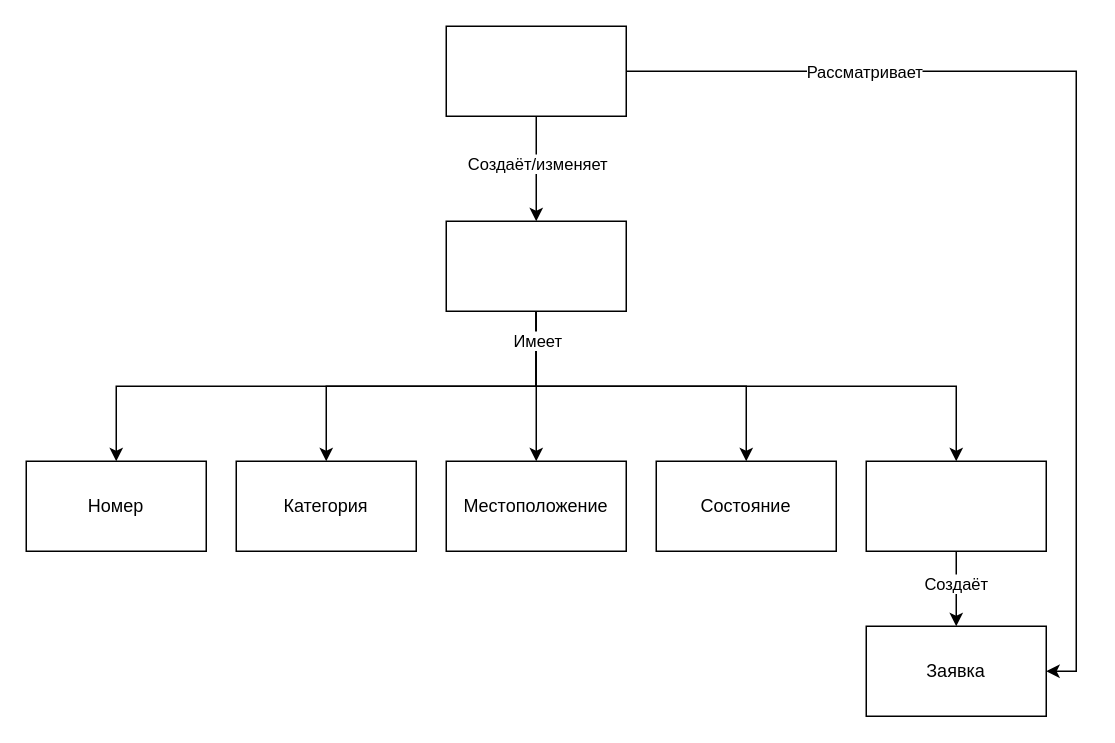
This 1115x743 diagram has some shape labels left out. Here are the shapes that lost their labels. From the top down, the centre of each, then its label:
[535,70]: Администратор
[535,265]: Оборудование
[955,505]: Сотрудник
